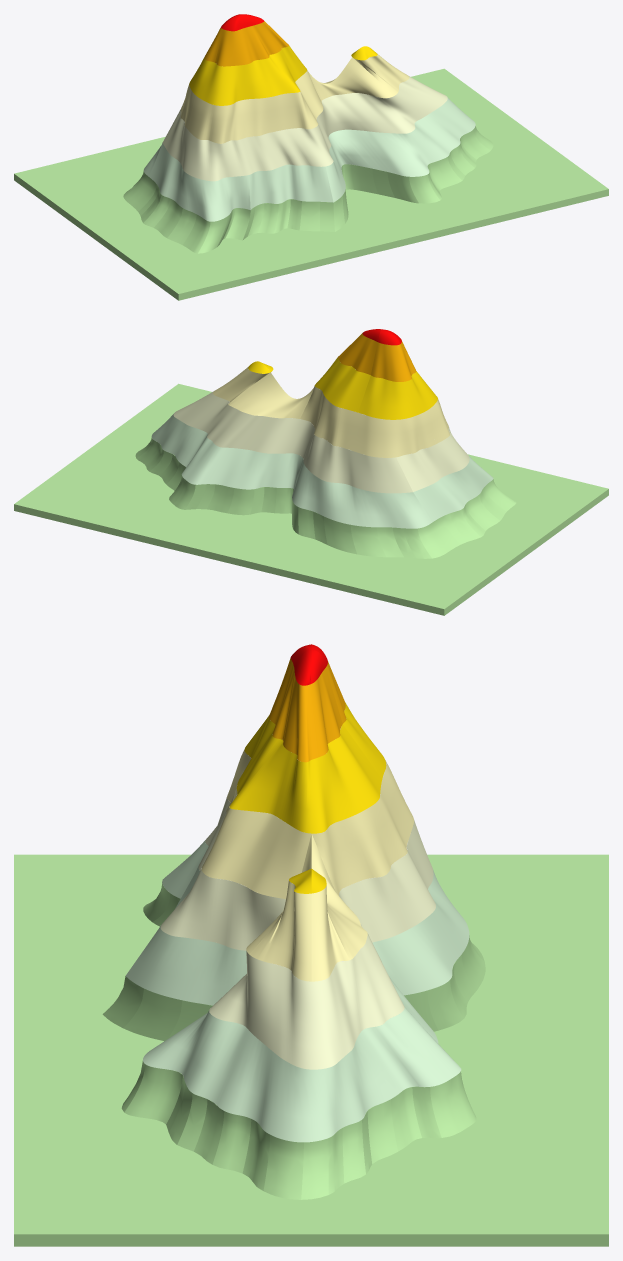
The model's file is mountain.glb.
3 views of the same model, one above another, from view 1: azimuth 30°, elevation 25°; view 2: azimuth 150°, elevation 25°; view 3: azimuth 270°, elevation 25° (orthographic). The views are drawn at different scales.
Visible parts, largest first — view 1: 物件_12, 物件_11, 物件_13, 物件_10, 物件_9, 物件_7, 物件_1, 物件_16; view 2: 物件_12, 物件_11, 物件_13, 物件_10, 物件_6, 物件_7, 物件_1, 物件_9, 物件_16; view 3: 物件_12, 物件_11, 物件_13, 物件_10, 物件_7, 物件_9, 物件_6, 物件_1, 物件_16.
Part boxes in pixels (x1,y1,x2,y2): 物件_12: (14, 68, 608, 300); 物件_11: (143, 97, 475, 221); 物件_13: (123, 126, 493, 253); 物件_10: (162, 76, 447, 181); 物件_9: (187, 53, 409, 143); 物件_7: (189, 45, 306, 105); 物件_1: (204, 21, 288, 66); 物件_16: (221, 14, 264, 31); 物件_12: (14, 383, 608, 615); 物件_11: (151, 414, 493, 528); 物件_13: (135, 437, 516, 558); 物件_10: (173, 391, 469, 493); 物件_6: (213, 367, 435, 457); 物件_7: (314, 358, 437, 419); 物件_1: (337, 333, 416, 381); 物件_9: (238, 367, 449, 444); 物件_16: (362, 329, 401, 345); 物件_12: (14, 854, 608, 1246); 物件_11: (125, 840, 469, 1142); 物件_13: (102, 878, 485, 1199); 物件_10: (160, 798, 435, 1069); 物件_7: (229, 702, 386, 833); 物件_9: (201, 749, 311, 981); 物件_6: (311, 760, 413, 981); 物件_1: (269, 658, 346, 762); 物件_16: (290, 644, 327, 685).
Size of the model in its own units: 0.0539 by 0.0228 by 0.0357.
